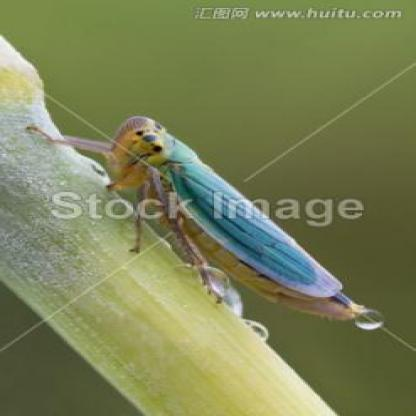Green-Leafhopper: (32, 111, 384, 334)
